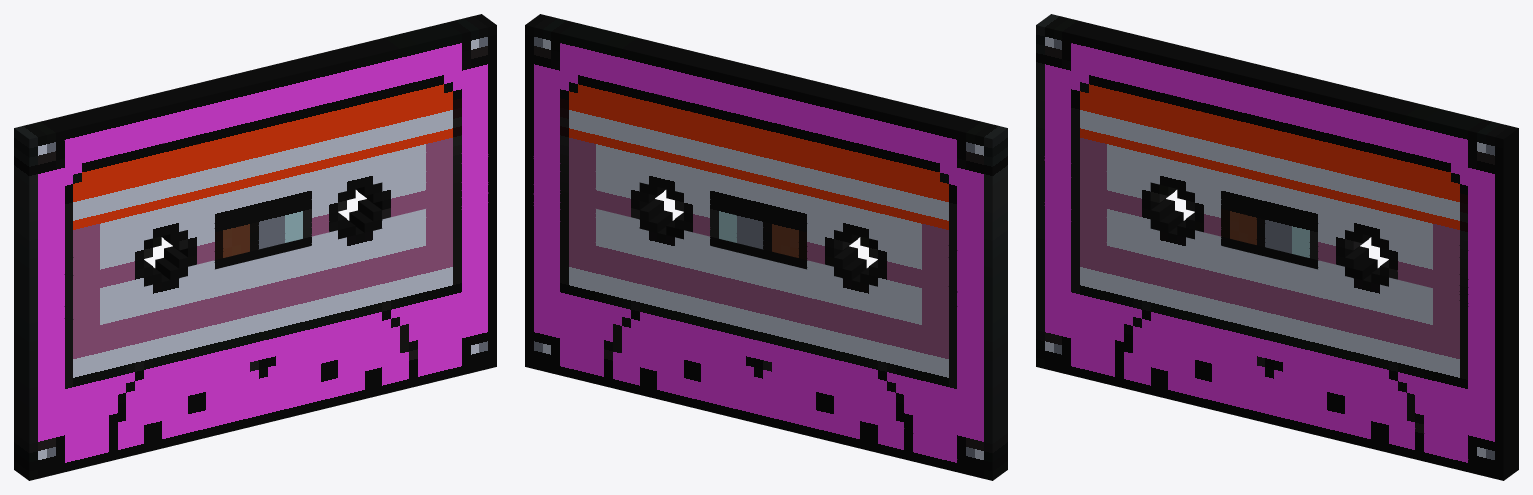
File: casete.gltf
3 views of the same model, side by side, from view 1: azimuth 30°, elevation 25°; view 2: azimuth 150°, elevation 25°; view 3: azimuth 330°, elevation 25° (orthographic).
Parts seen in each view (by area): view 1: Content-Mesh; view 2: Content-Mesh; view 3: Content-Mesh.
Part boxes in pixels (x1,y1,x2,y2): Content-Mesh: (14,14,496,480); Content-Mesh: (525,14,1007,480); Content-Mesh: (1036,14,1518,480).
Size of the model in its own units: 53 by 37 by 3.
1 material, 1 textured.
